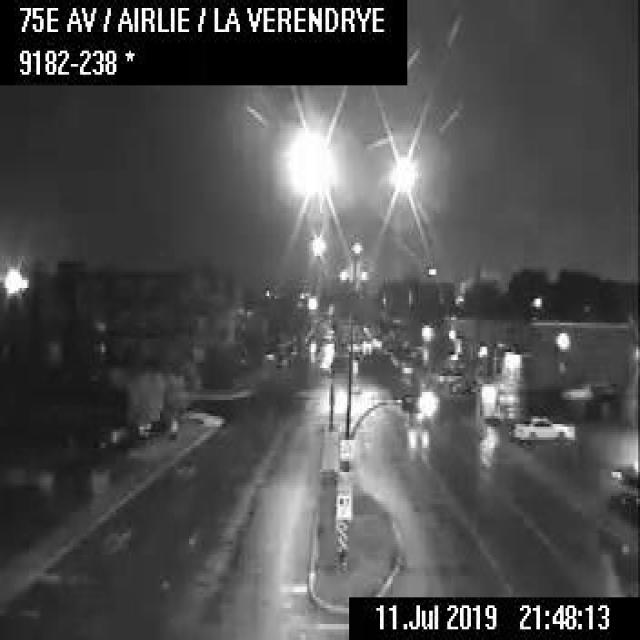vehicle: (511, 413, 576, 445), (405, 403, 427, 425)
